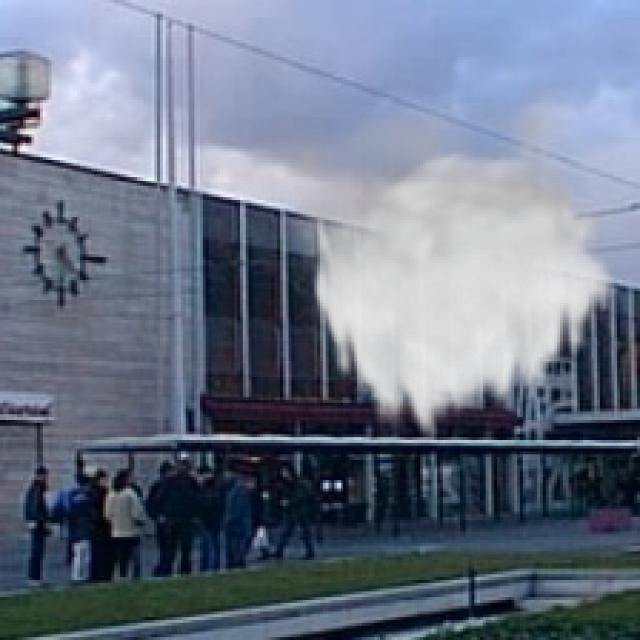smoke: (246, 80, 617, 446)
